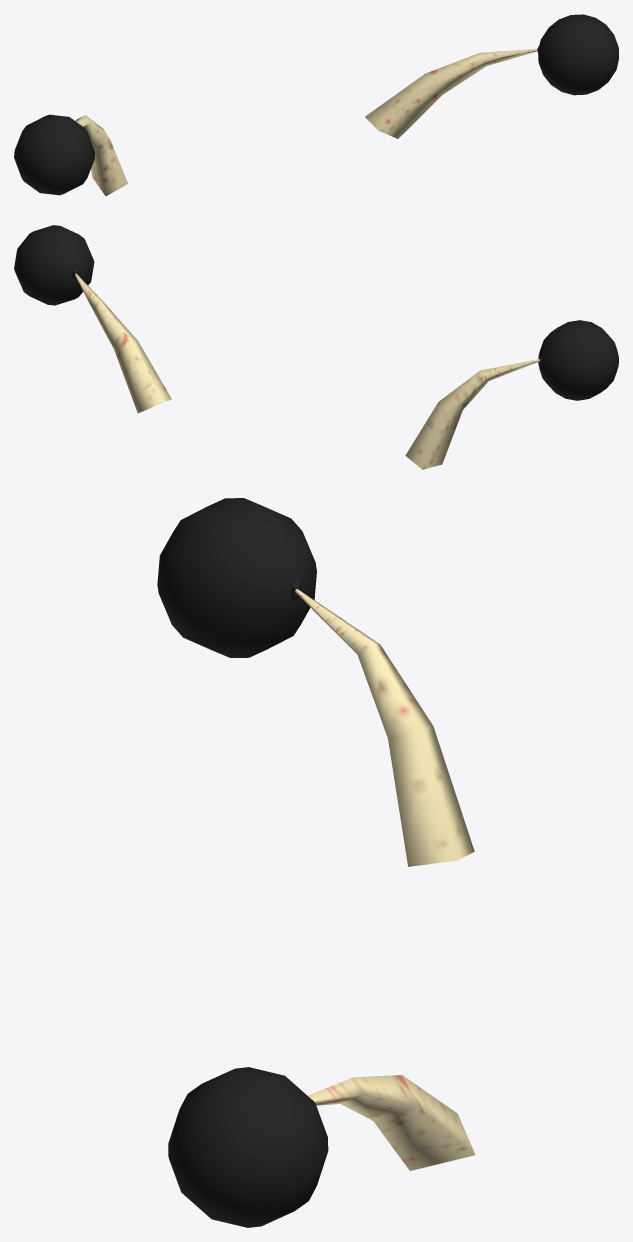
The model's file is antennae.glb.
3 renders of one model, top to bottom at view 1: azimuth 30°, elevation 25°; view 2: azimuth 150°, elevation 25°; view 3: azimuth 270°, elevation 25°, orthographic. The views are drawn at different scales.
Parts seen in each view (by area): view 1: Object_2; view 2: Object_2; view 3: Object_2.
Boxes of the visible parts, x1=… form: Object_2: x1=14, y1=14, x2=618, y2=196; Object_2: x1=14, y1=225, x2=618, y2=469; Object_2: x1=157, y1=498, x2=475, y2=1227.
Bounding box in the file's own units: 0.4572 × 0.1067 × 0.1066.
Materials: 1 (1 with a texture image).
